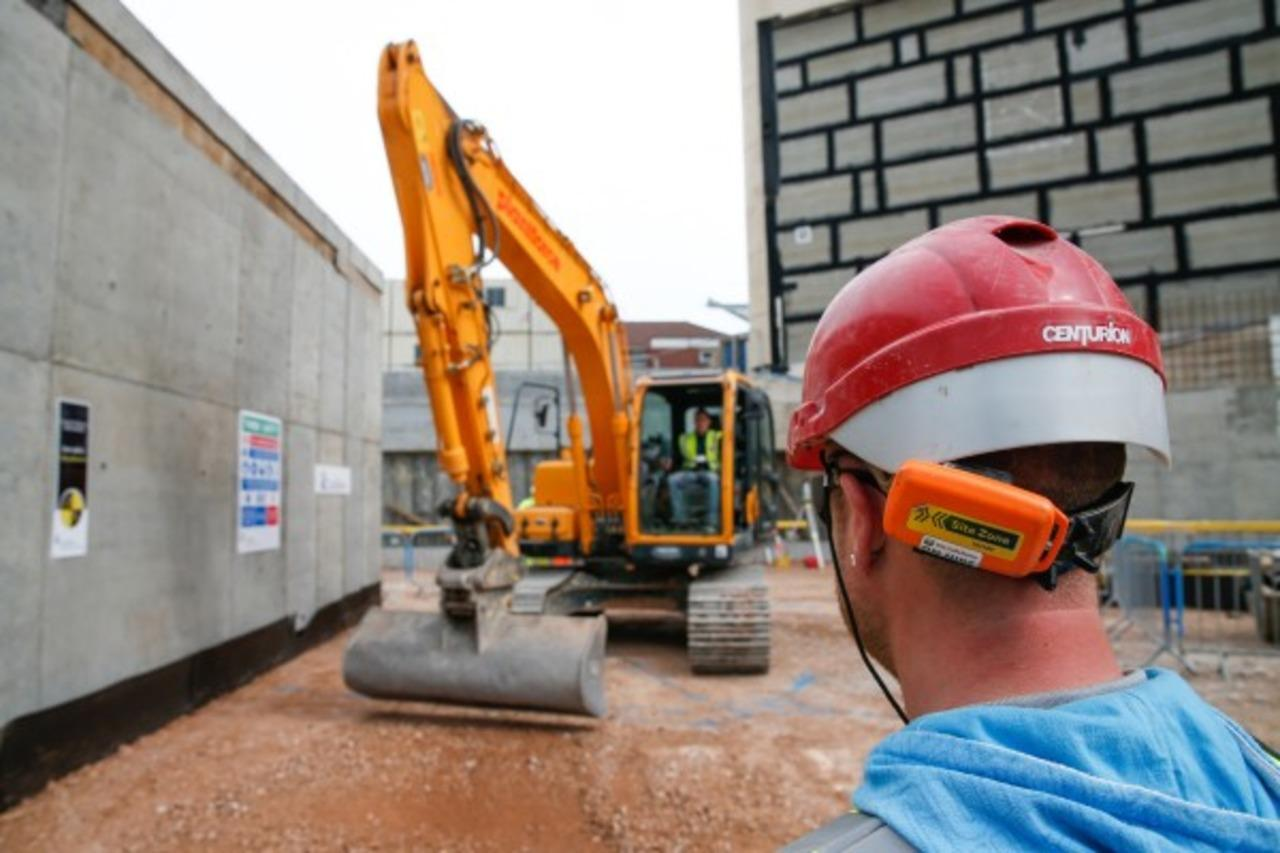helmet: (776, 217, 1175, 486)
